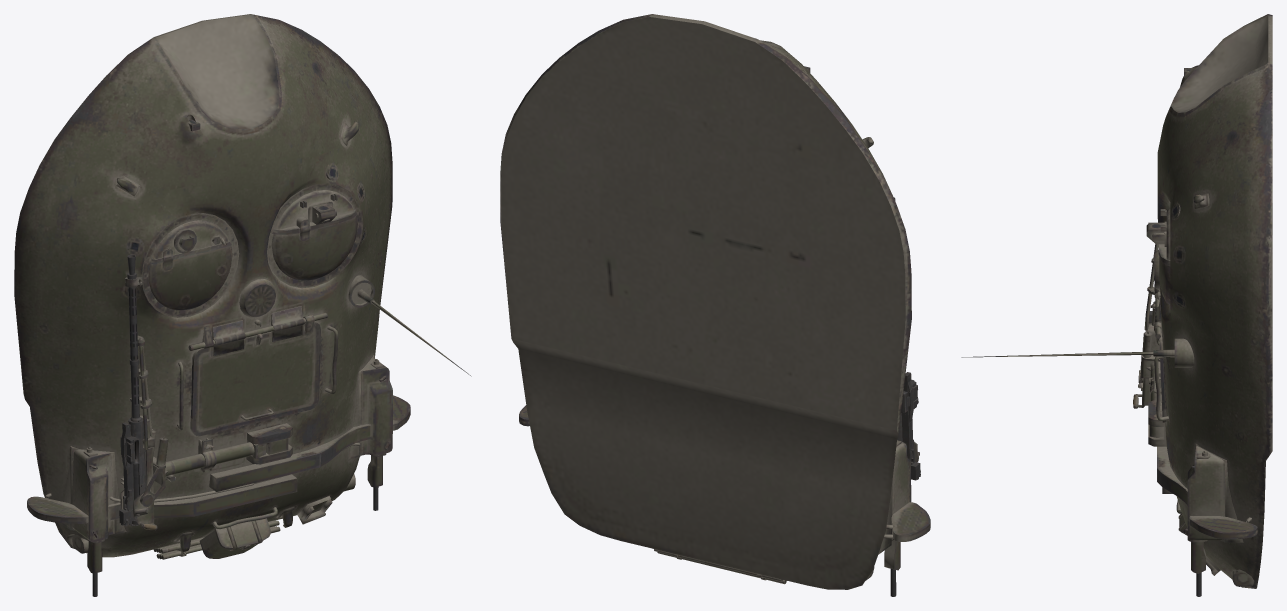
Rendered from Turret_01.glb.
3 views of the same model, side by side, from view 1: azimuth 30°, elevation 25°; view 2: azimuth 150°, elevation 25°; view 3: azimuth 270°, elevation 25° (orthographic). The views are drawn at different scales.
Visible parts, largest first — view 1: set_0_group_0; view 2: set_0_group_0; view 3: set_0_group_0.
Boxes of the visible parts, left/top/right/bottom form: set_0_group_0: left=14, top=14, right=471, bottom=596; set_0_group_0: left=500, top=14, right=930, bottom=596; set_0_group_0: left=961, top=14, right=1272, bottom=596.
Size of the model in its own units: 2.99 by 3.9 by 2.15.
1 material, 1 textured.
